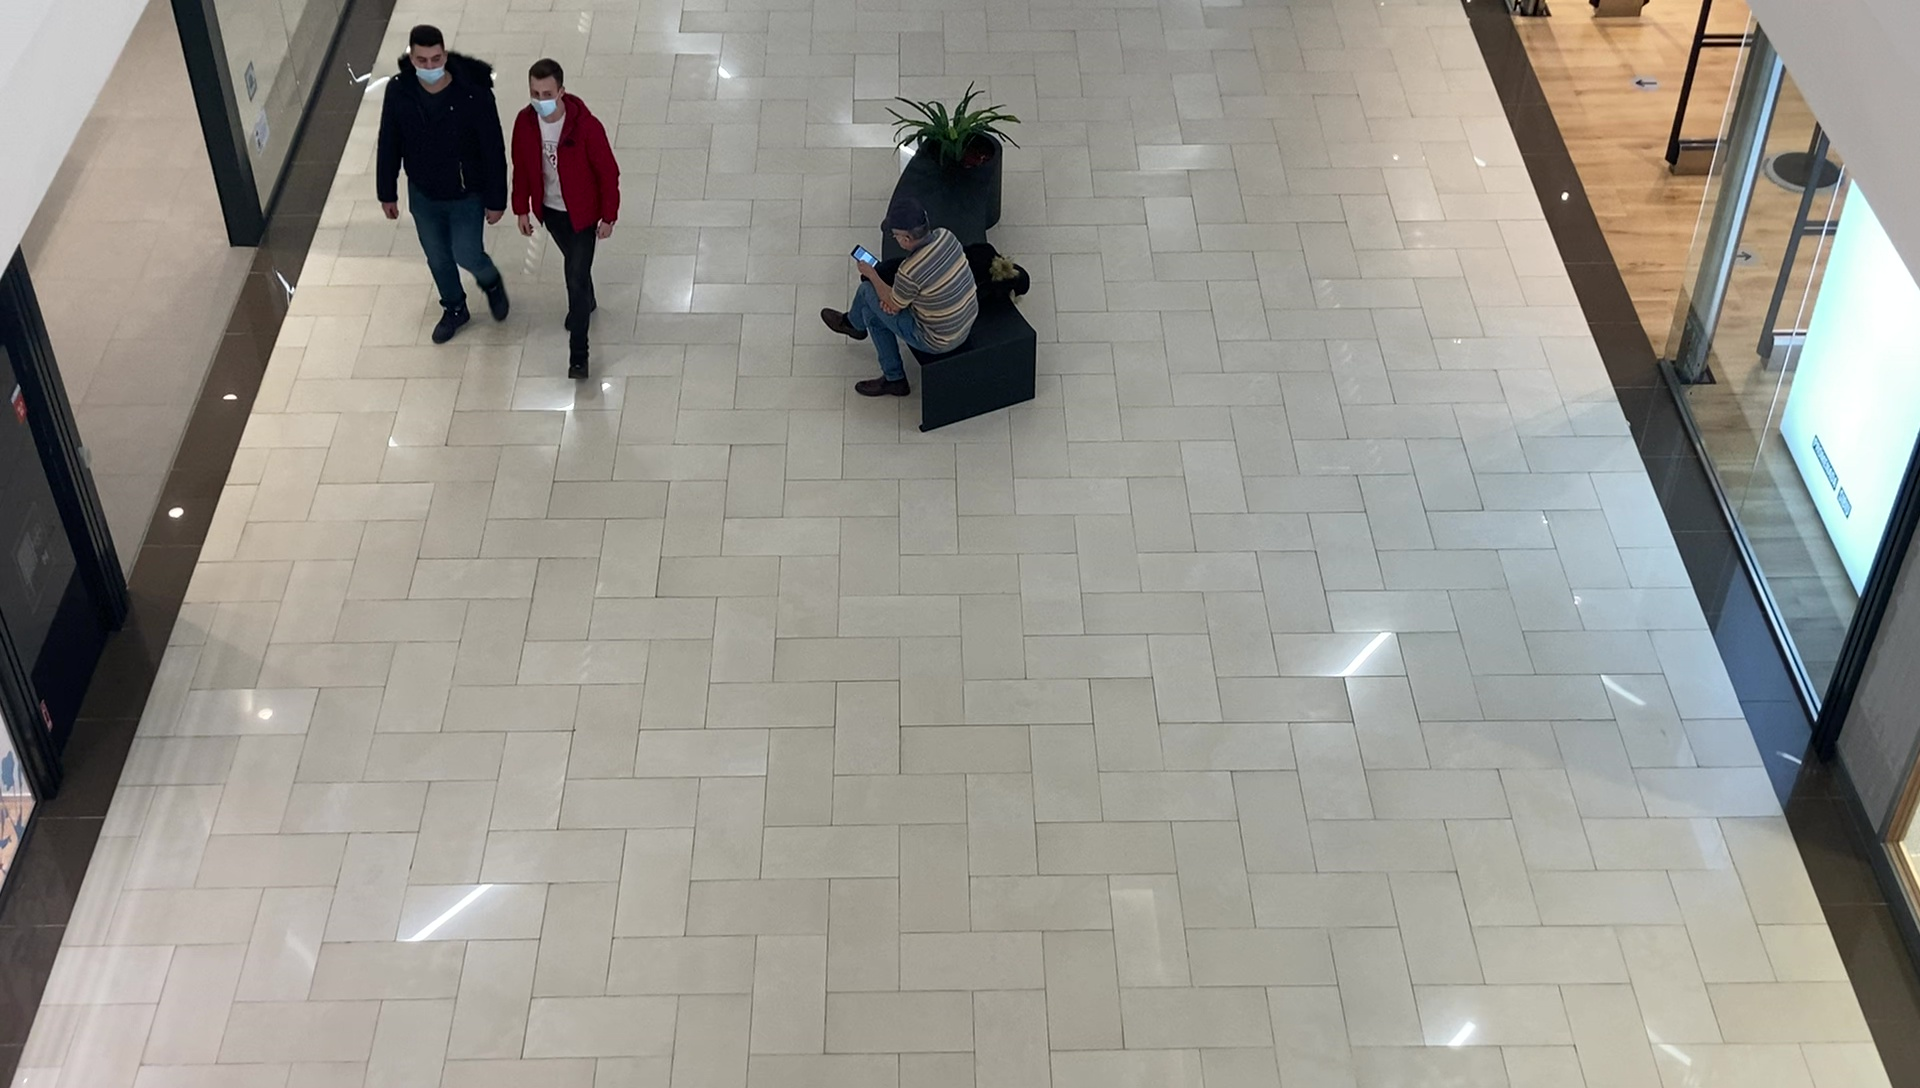person: (375, 22, 512, 343), (511, 57, 622, 383)
